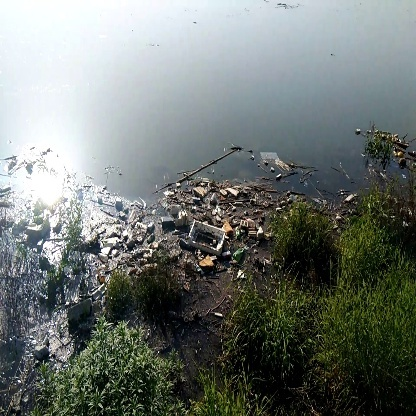branch: (167, 147, 246, 182)
plastic-garbage: (187, 217, 229, 256)
